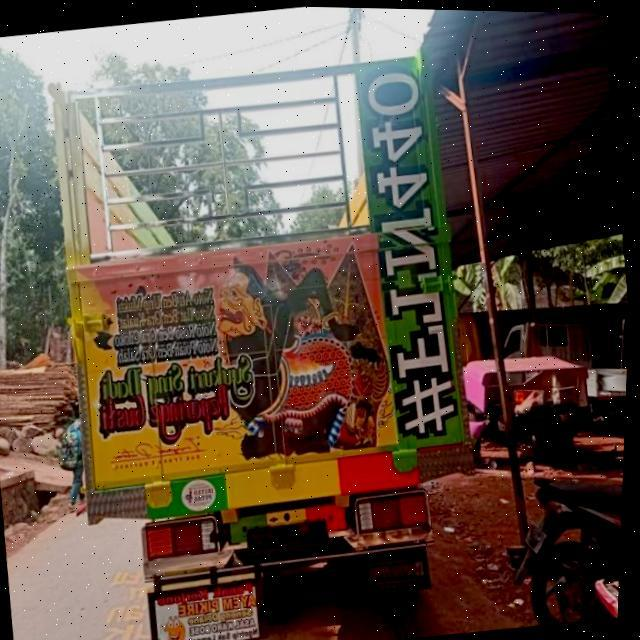truck: (33, 37, 506, 640)
